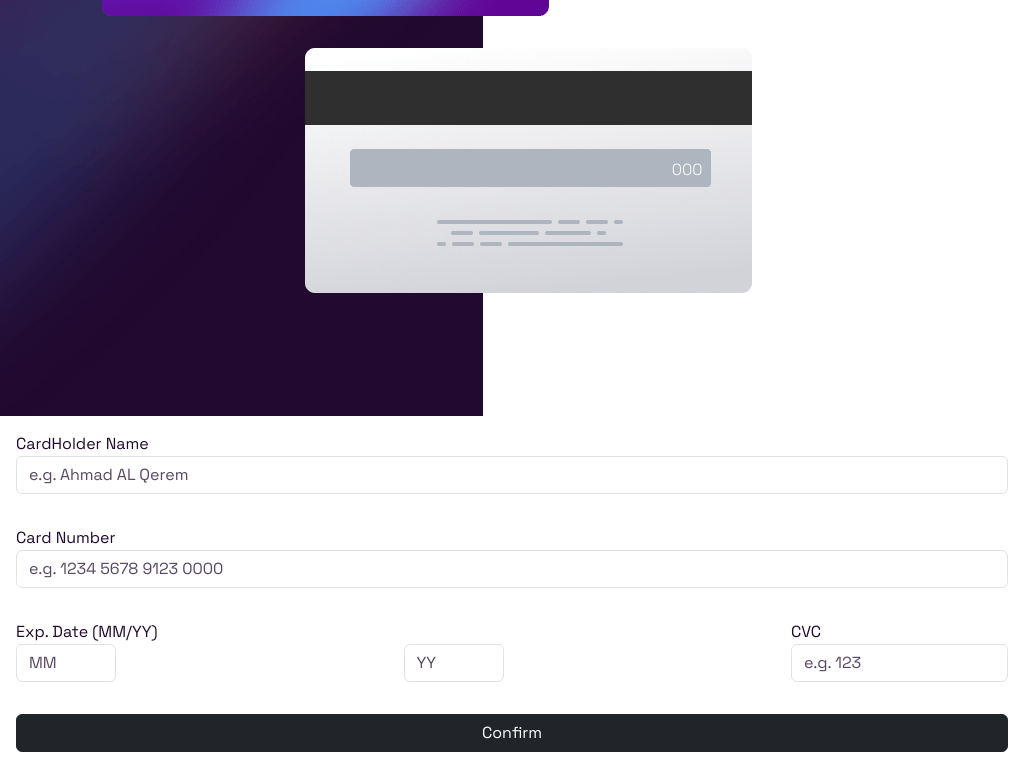
Test: Interactive Card Testing › Submit form and change the state correctly
The width and height of the screenshot is (1024, 760).
(page scrolled)
Type "12" into the field labelled "Exp. Date (MM/YY)" at (66, 663), box [16,644,116,682]
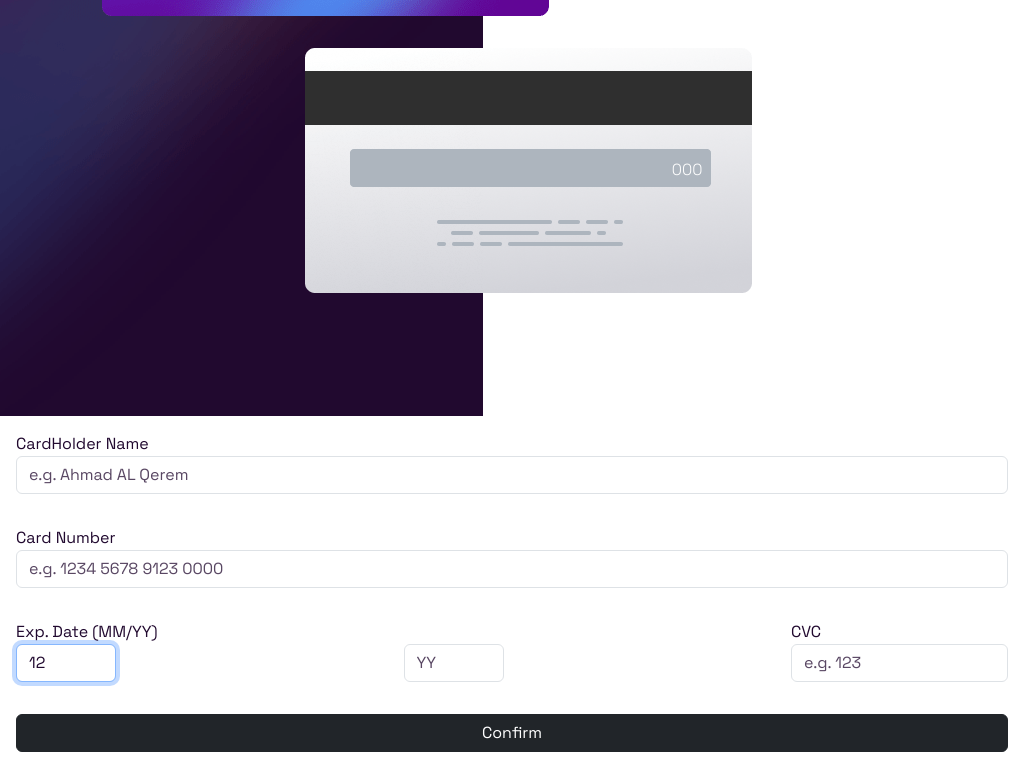
Type "12" into the field with test id "text-field-expiryDateYY" at (454, 663), box [404,644,504,682]
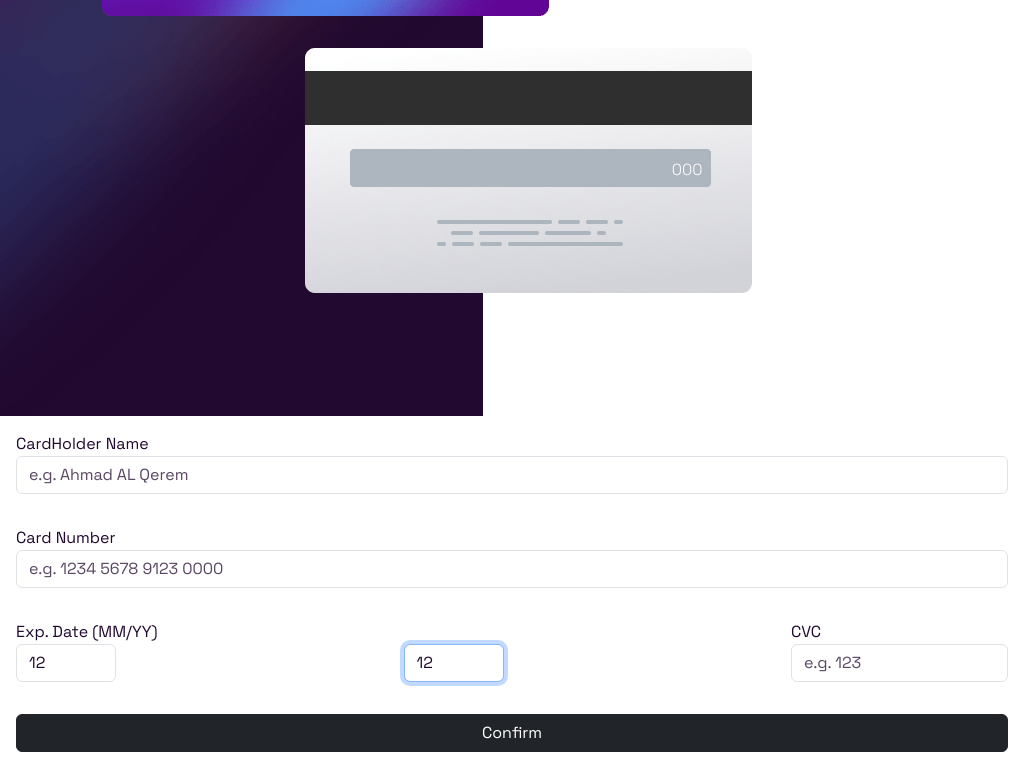
Type "Ahmad AL Qerem" into the field labelled "CardHolder Name" at (512, 475), box [16,456,1008,494]
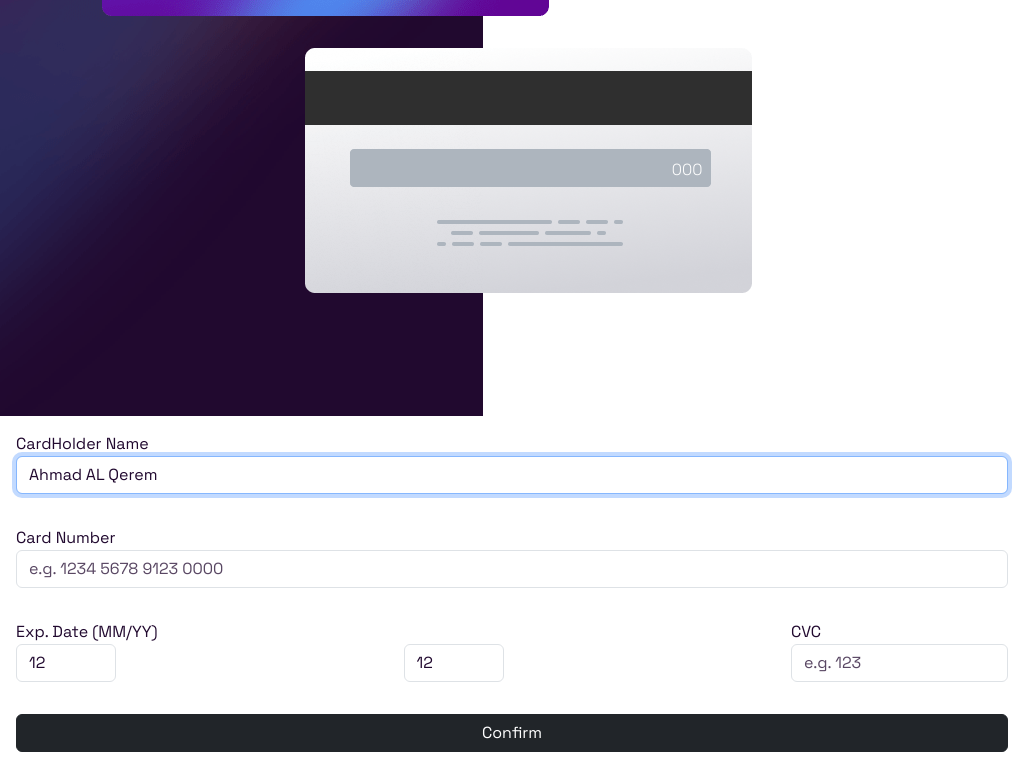
Type "1234567891230000" into the field labelled "Card Number" at (512, 569), box [16,550,1008,588]
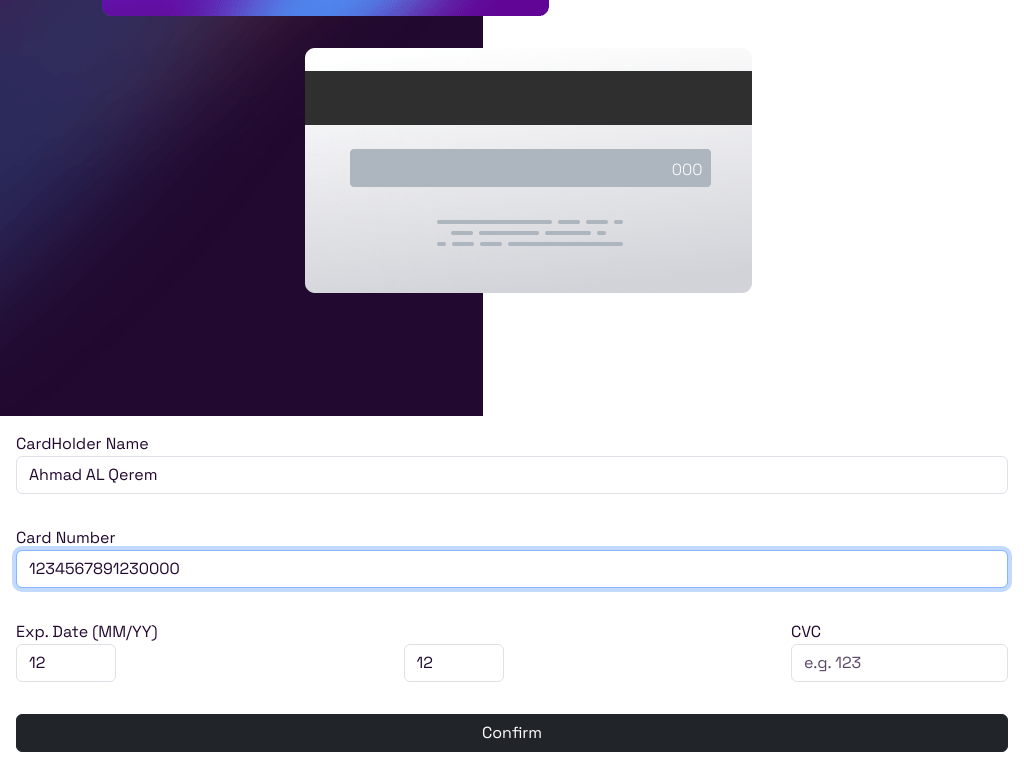
Type "123" into the field labelled "CVC" at (900, 663), box [791,644,1008,682]
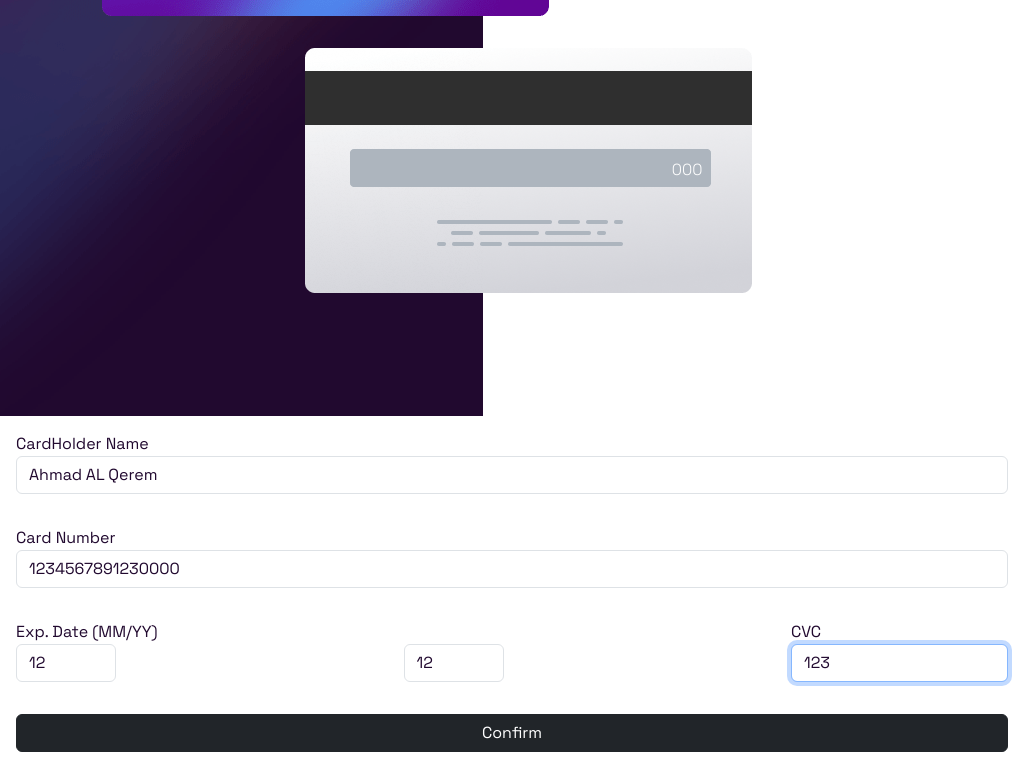
Click the button "Confirm" at (512, 733), box [16,714,1008,752]
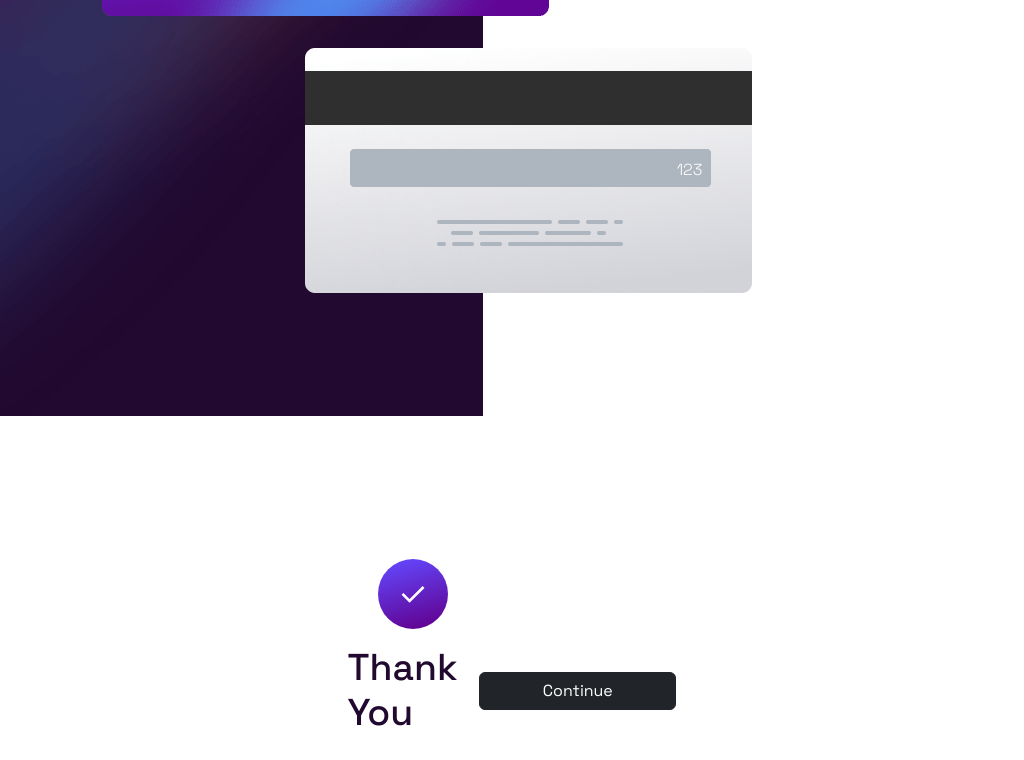
Result: the text "123" is shown at [677,158,702,182]
